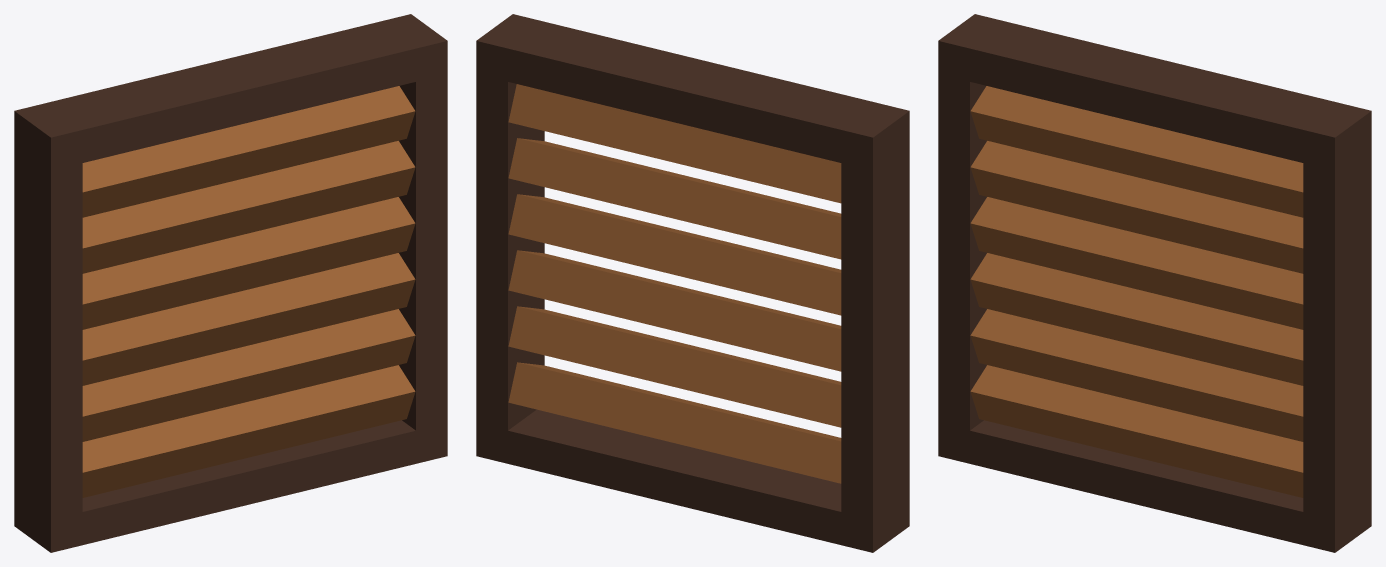
File: 848_rectangular_louvred_vent_insert.fbx
The picture shows the model from 3 angles, left to right: view 1: azimuth 30°, elevation 25°; view 2: azimuth 150°, elevation 25°; view 3: azimuth 330°, elevation 25°; orthographic projection.
Visible parts, largest first — view 1: 848_rectangular_louvred_vent_insert; view 2: 848_rectangular_louvred_vent_insert; view 3: 848_rectangular_louvred_vent_insert.
Boxes of the visible parts, <box> form: 848_rectangular_louvred_vent_insert: <box>14,14,447,552</box>; 848_rectangular_louvred_vent_insert: <box>476,14,909,552</box>; 848_rectangular_louvred_vent_insert: <box>938,14,1371,552</box>.
Bounding box in the file's own units: 1 × 1 × 0.16.
1 material, 1 textured.
